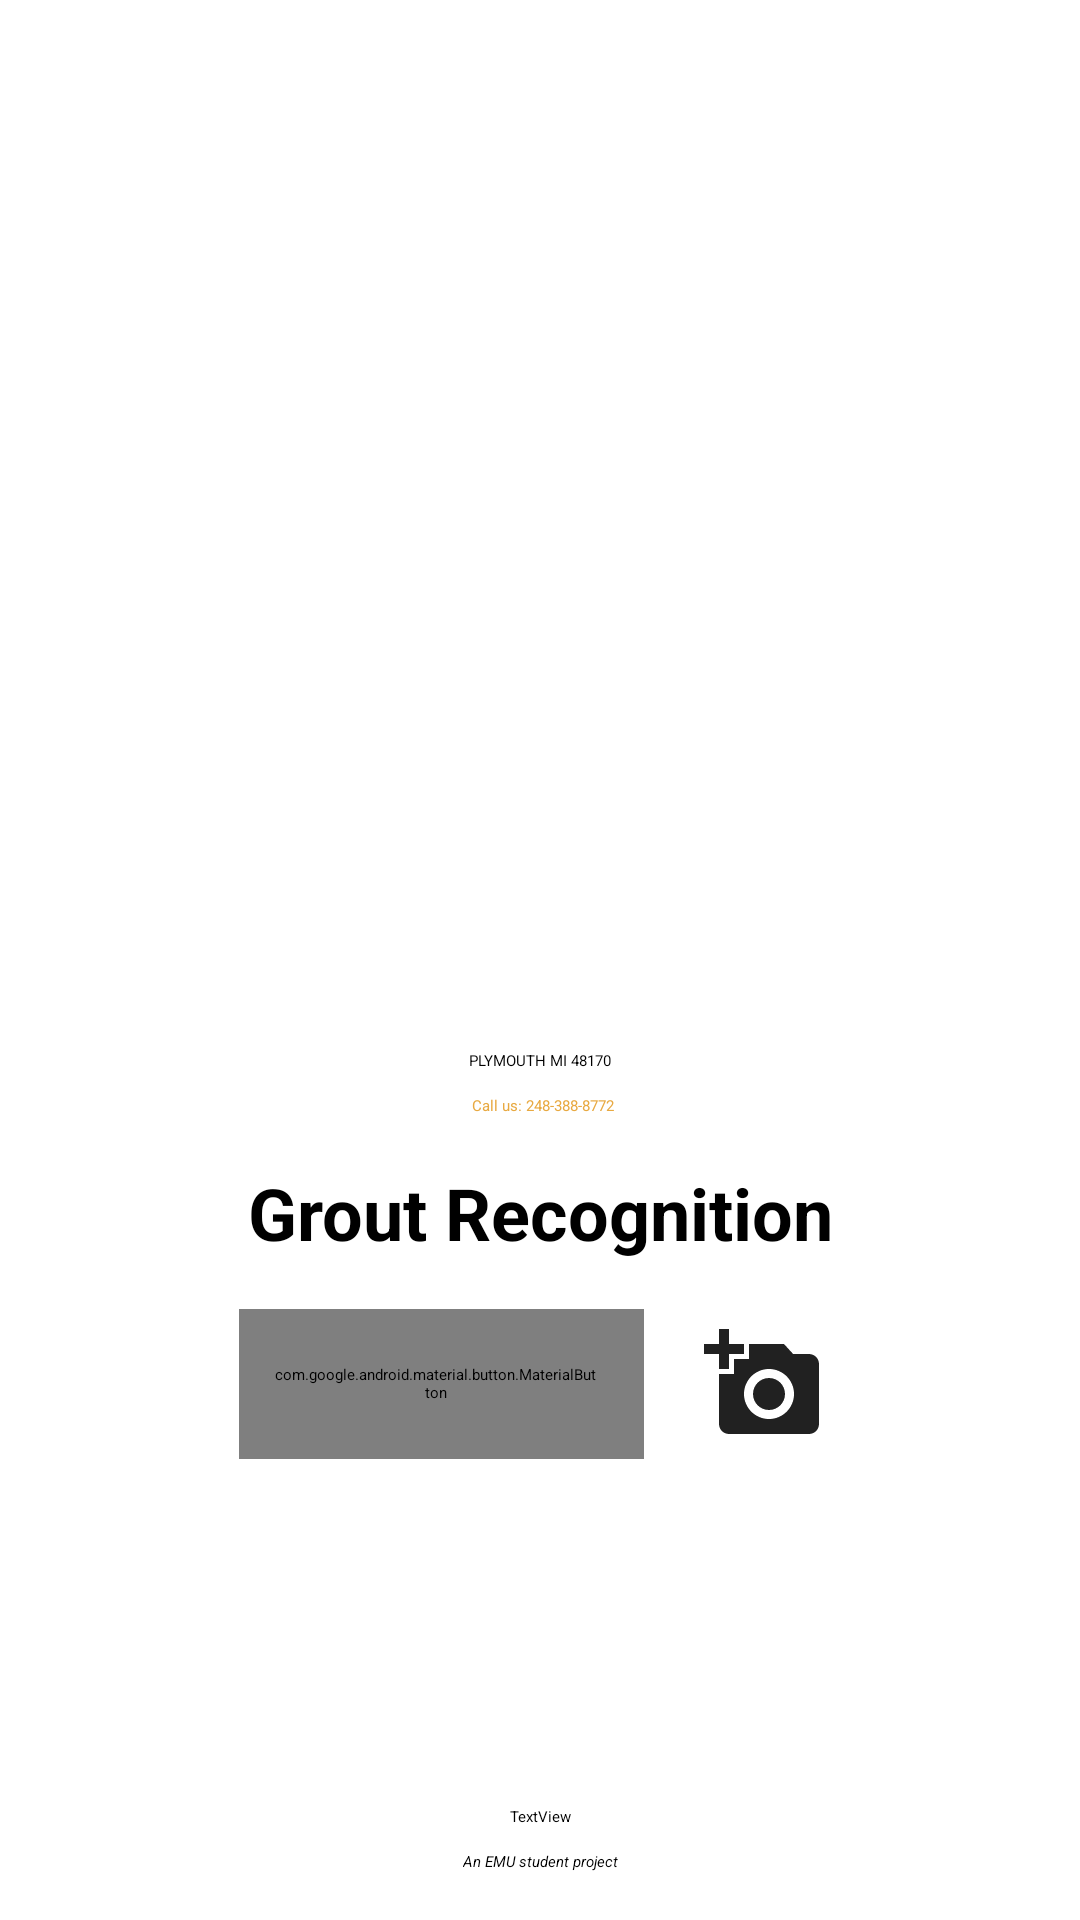

Screen size 1080x1920. Icon name, then its box in pixels as bbox(x1, y1, x2, y2):
take photo: bbox(704, 1329, 819, 1434)
